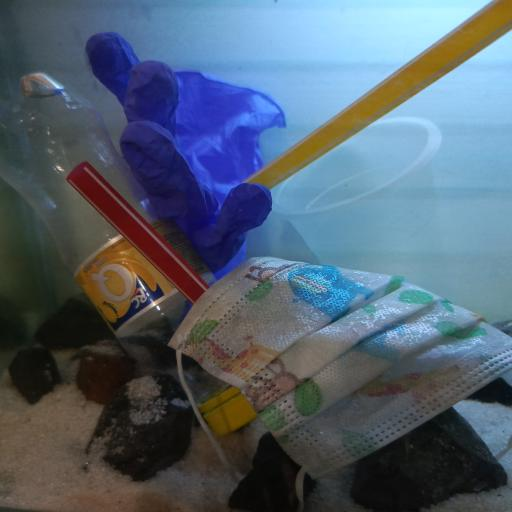bottle_cap: (203, 394, 256, 434)
glove: (85, 30, 286, 270)
mask: (169, 258, 512, 481)
plastic_bottle: (0, 74, 257, 434)
plastic_cup: (275, 114, 443, 296)
plastic_straw: (244, 0, 512, 186), (69, 162, 207, 304)
